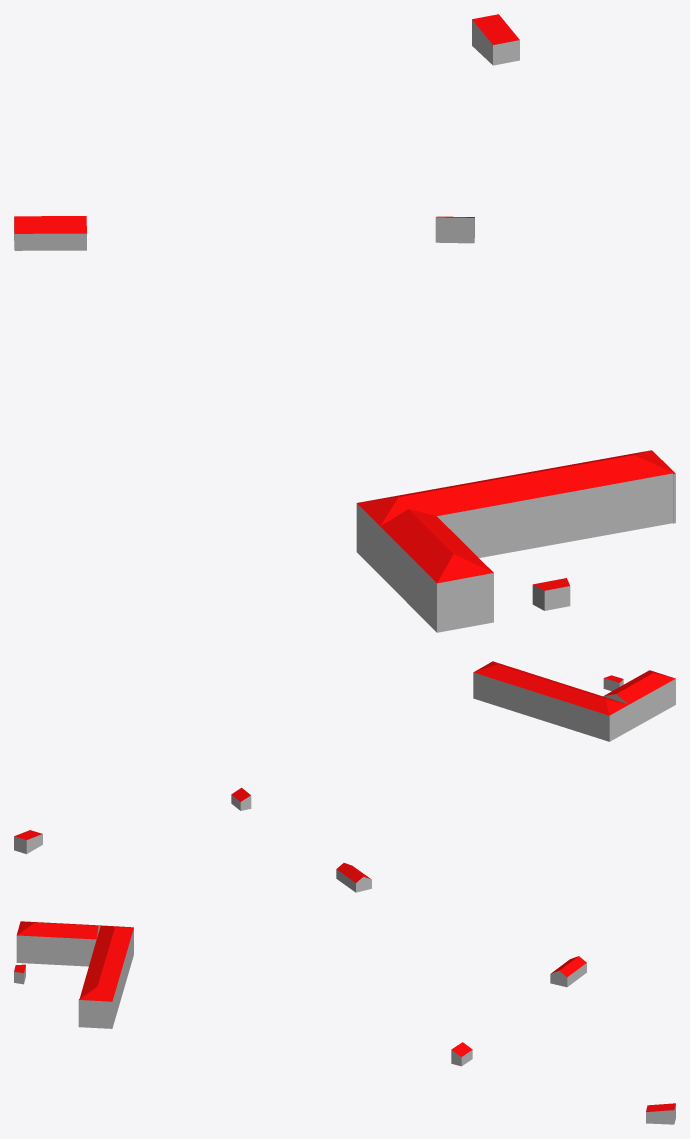
3 renders of one model, top to bottom at view 1: azimuth 30°, elevation 25°; view 2: azimuth 150°, elevation 25°; view 3: azimuth 270°, elevation 25°, orthographic. The views are drawn at different scales.
Size of the model in its own units: 102 by 9.18 by 161.
